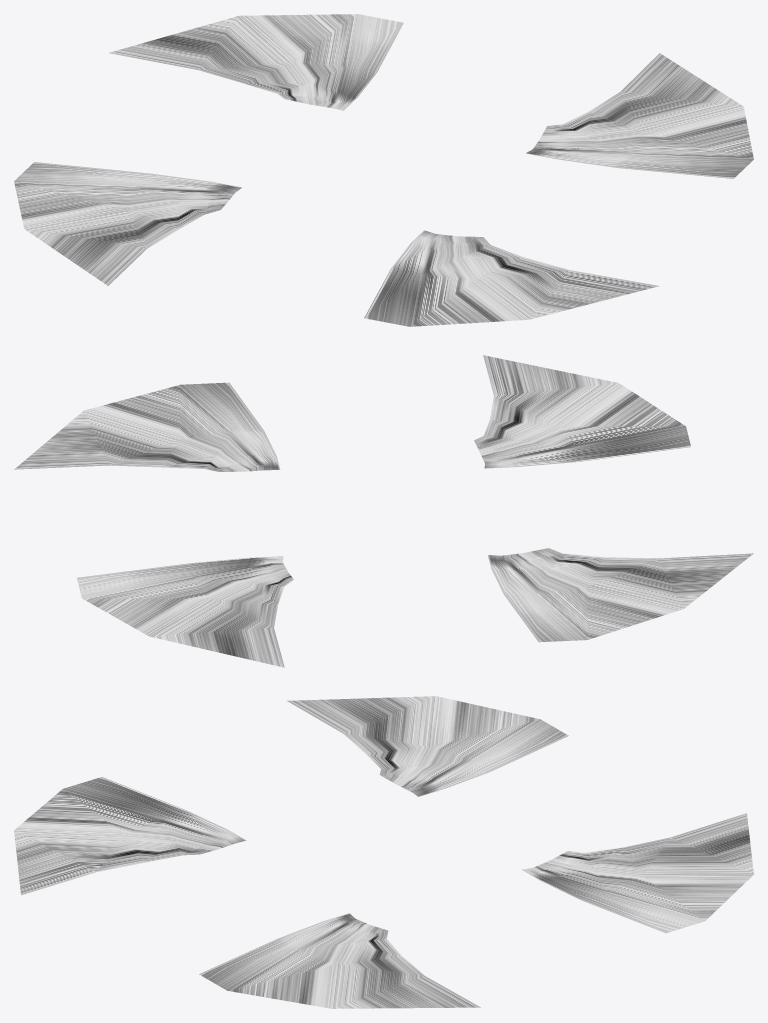
Rendered from RasenShuriken_BladeFly.fbx.
3 views of the same model, one above another, from view 1: azimuth 30°, elevation 25°; view 2: azimuth 150°, elevation 25°; view 3: azimuth 270°, elevation 25° (orthographic). The views are drawn at different scales.
Parts seen in each view (by area): view 1: SM_WEP_Eff_TrueRasenShuriken_02.mo; view 2: SM_WEP_Eff_TrueRasenShuriken_02.mo; view 3: SM_WEP_Eff_TrueRasenShuriken_02.mo.
Boxes of the visible parts, x1,y1,x2,y2 form: SM_WEP_Eff_TrueRasenShuriken_02.mo: (14,14,753,326); SM_WEP_Eff_TrueRasenShuriken_02.mo: (14,355,753,667); SM_WEP_Eff_TrueRasenShuriken_02.mo: (14,696,753,1008).
Bounding box in the file's own units: 113 × 0.5369 × 113.
